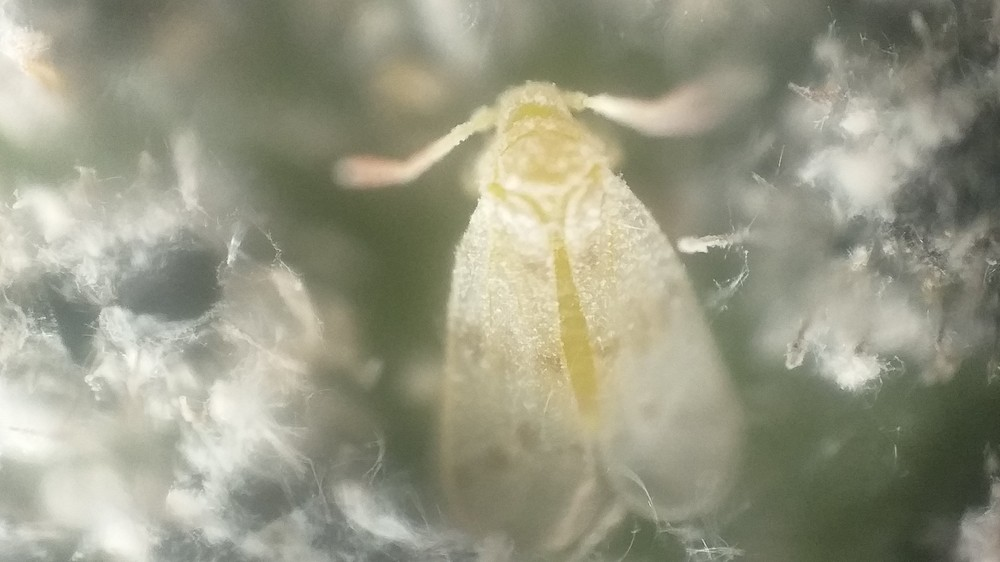Mosca Blanca: (332, 54, 787, 544)
